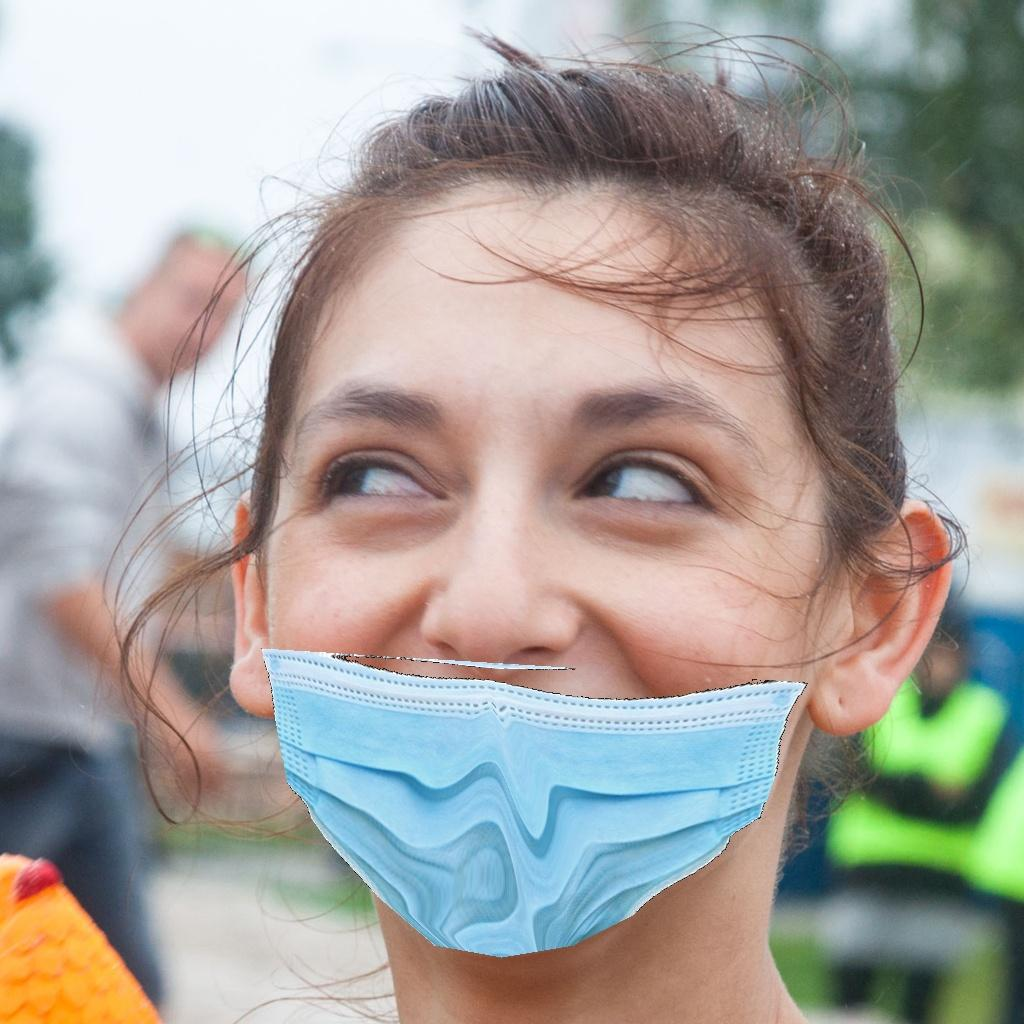Máscara Incorreta: (276, 307, 860, 960)
